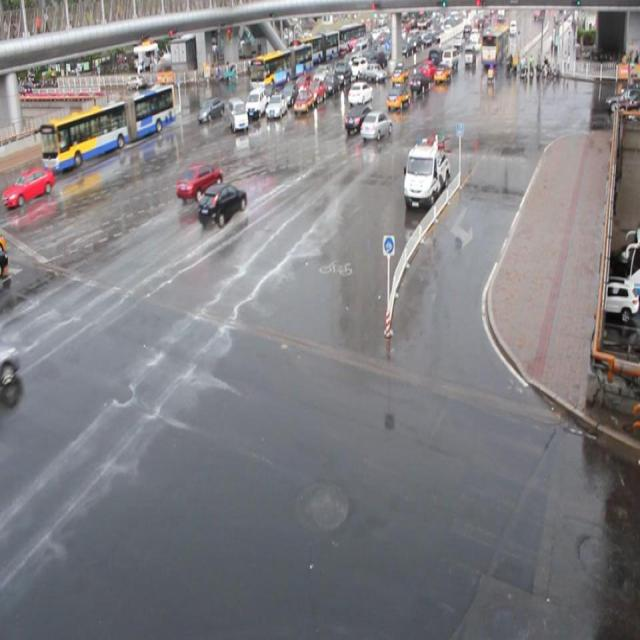bus: (402, 140, 450, 208)
car: (1, 166, 55, 209), (196, 182, 246, 226), (175, 163, 222, 201), (359, 110, 392, 140), (344, 104, 375, 132), (197, 96, 224, 122), (385, 82, 410, 110), (347, 81, 372, 104), (292, 90, 313, 116), (264, 78, 286, 101), (266, 94, 287, 118), (304, 79, 324, 104), (279, 81, 299, 105), (408, 71, 429, 93), (291, 74, 311, 95)
truck: (227, 96, 248, 132), (245, 86, 267, 118)
van: (40, 84, 176, 170)
